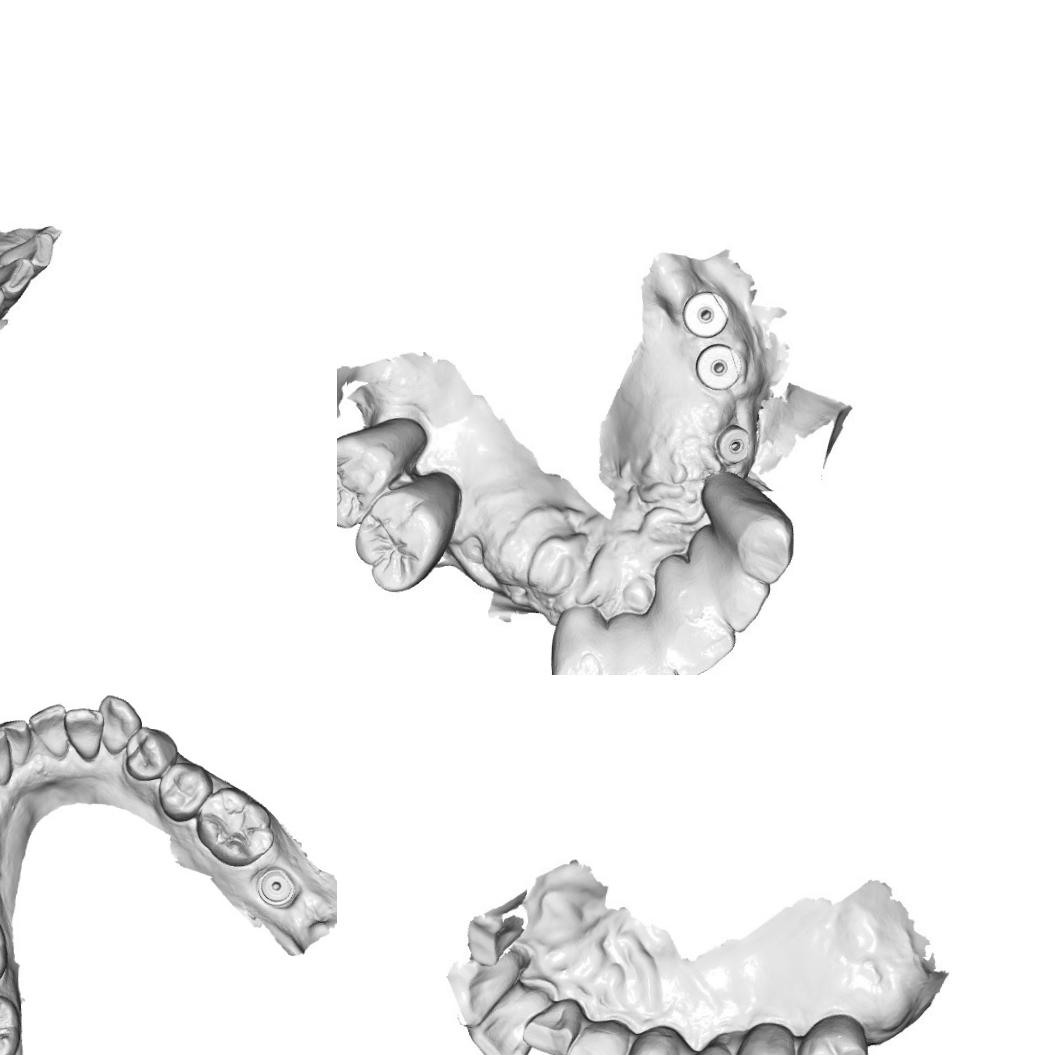canine: (704, 472, 796, 576), (546, 606, 616, 675), (96, 693, 142, 756), (561, 1017, 634, 1055)
implant: (698, 344, 746, 396), (713, 417, 756, 470), (686, 289, 730, 339), (256, 868, 301, 909)
incisor: (657, 555, 740, 675), (690, 524, 772, 629), (441, 950, 522, 1032), (465, 986, 550, 1055), (611, 613, 684, 675), (532, 1000, 580, 1052), (25, 700, 69, 756), (61, 707, 103, 761), (0, 717, 31, 768), (0, 728, 11, 776)
molar: (196, 786, 276, 870), (791, 1010, 871, 1055), (0, 988, 23, 1055)
premolar: (362, 481, 454, 585), (337, 417, 418, 529), (157, 760, 215, 822), (124, 725, 179, 784), (722, 1023, 798, 1055), (621, 1022, 687, 1055)
